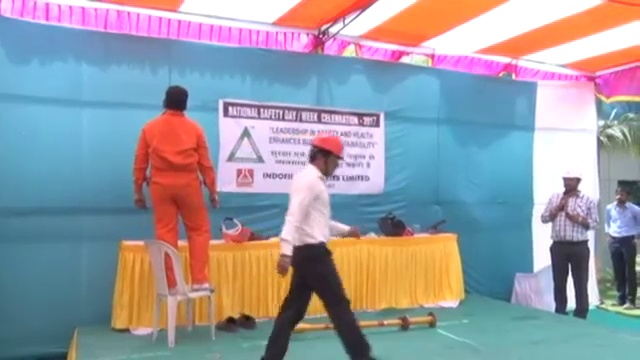helmet: (309, 131, 346, 162), (560, 166, 583, 180)
helmet_off: (162, 84, 190, 114), (614, 186, 632, 205)
helmet_on: (301, 131, 346, 182), (557, 165, 584, 199)
person: (259, 132, 378, 360), (132, 85, 225, 296), (540, 164, 600, 325), (603, 186, 640, 309)
